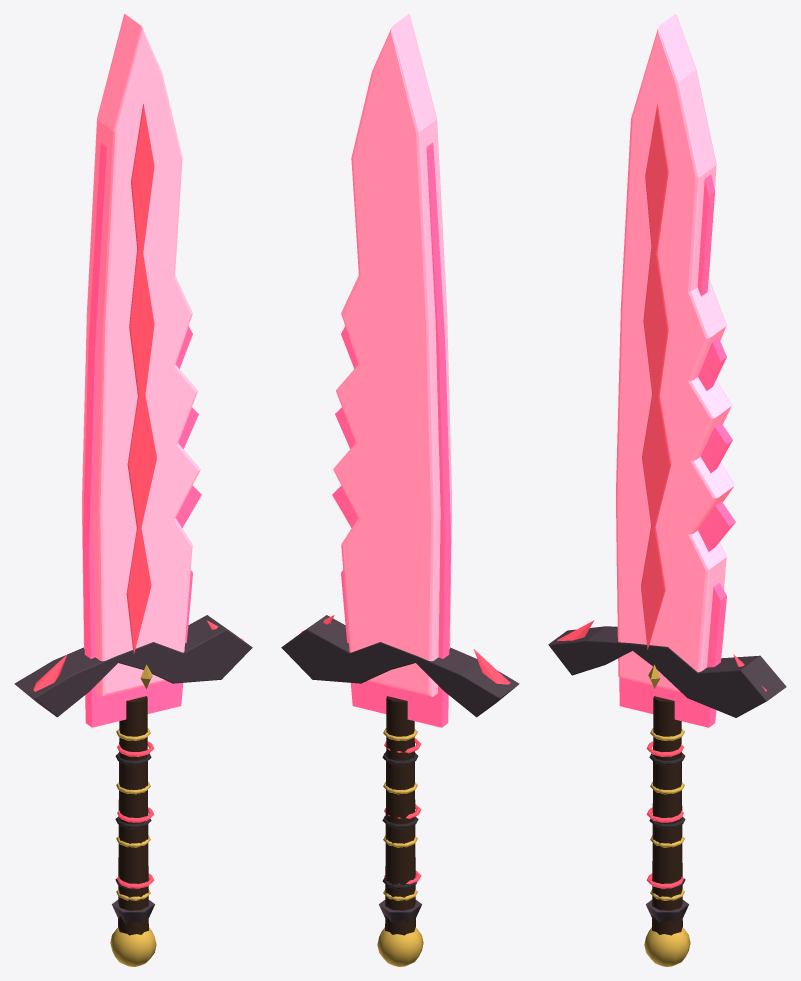
File: greatsword_f7_a9256d3e.glb
3 renders of one model, left to right at view 1: azimuth 30°, elevation 25°; view 2: azimuth 150°, elevation 25°; view 3: azimuth 330°, elevation 25°, orthographic.
Visible parts, largest first — view 1: m1_ow80_, m3_, m0_gm130_, m4_ow80_, m2_ow80_, m5_ow80_; view 2: m1_ow80_, m0_gm130_, m4_ow80_, m2_ow80_, m5_ow80_, m3_, m6_ow80_; view 3: m1_ow80_, m3_, m4_ow80_, m0_gm130_, m2_ow80_, m5_ow80_.
Boxes of the visible parts, x1,y1,x2,y2 form: m1_ow80_: [82, 14, 200, 696]; m3_: [33, 104, 243, 888]; m0_gm130_: [82, 142, 201, 727]; m4_ow80_: [14, 615, 252, 924]; m2_ow80_: [118, 696, 148, 935]; m5_ow80_: [110, 664, 156, 966]; m1_ow80_: [333, 14, 451, 696]; m0_gm130_: [332, 142, 451, 727]; m4_ow80_: [281, 615, 519, 924]; m2_ow80_: [385, 696, 415, 935]; m5_ow80_: [377, 728, 423, 966]; m3_: [301, 615, 510, 884]; m6_ow80_: [382, 752, 418, 889]; m1_ow80_: [616, 14, 734, 692]; m3_: [557, 104, 766, 888]; m4_ow80_: [548, 626, 786, 924]; m0_gm130_: [619, 174, 735, 727]; m2_ow80_: [652, 696, 682, 935]; m5_ow80_: [644, 664, 690, 966].
Bounding box in the file's own units: 0.8712 × 3.59 × 0.1899.
